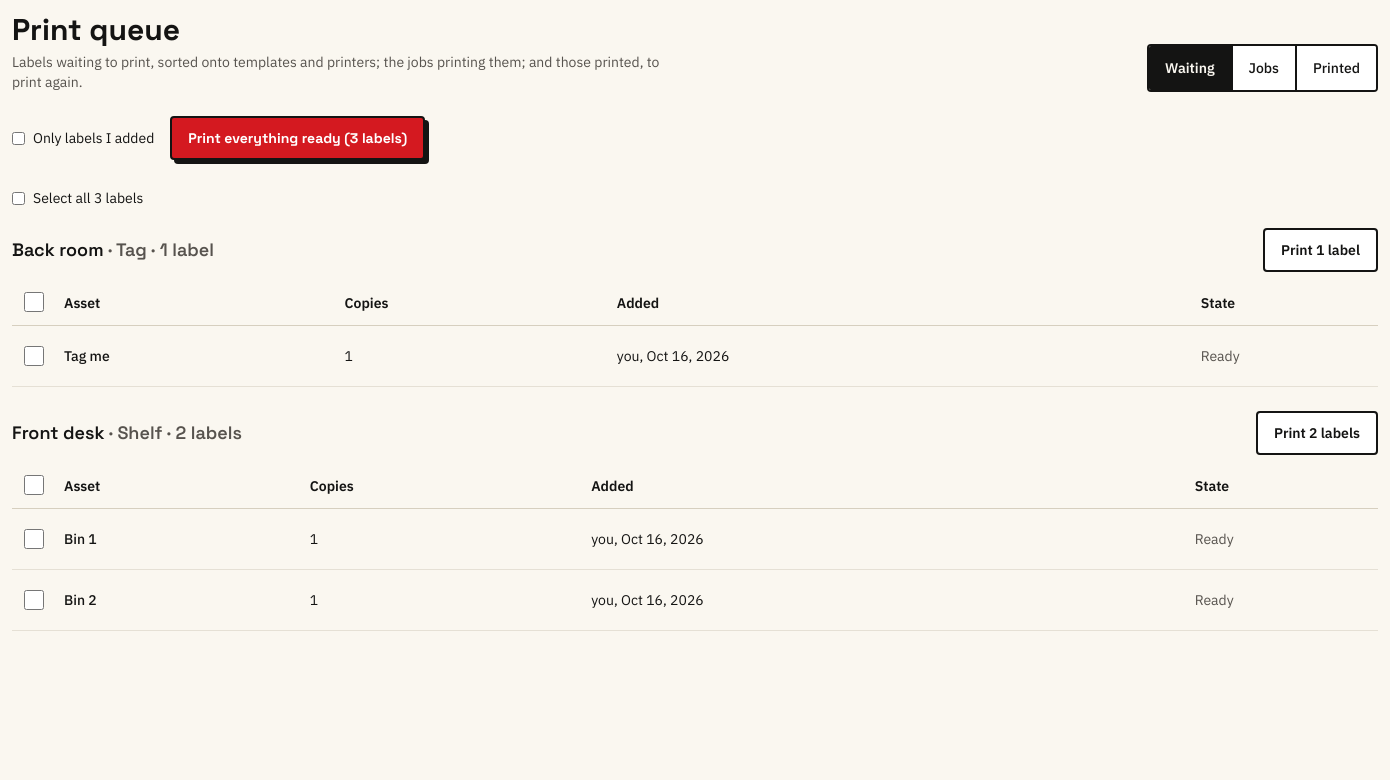
Scenario: SpoolPage › sets templates and printers in bulk, offering only what fits
The image size is (1390, 780).
Click the checkbox named "Select every label for Front desk, Shelf". click: [34, 485]
box: [24,475,44,495]
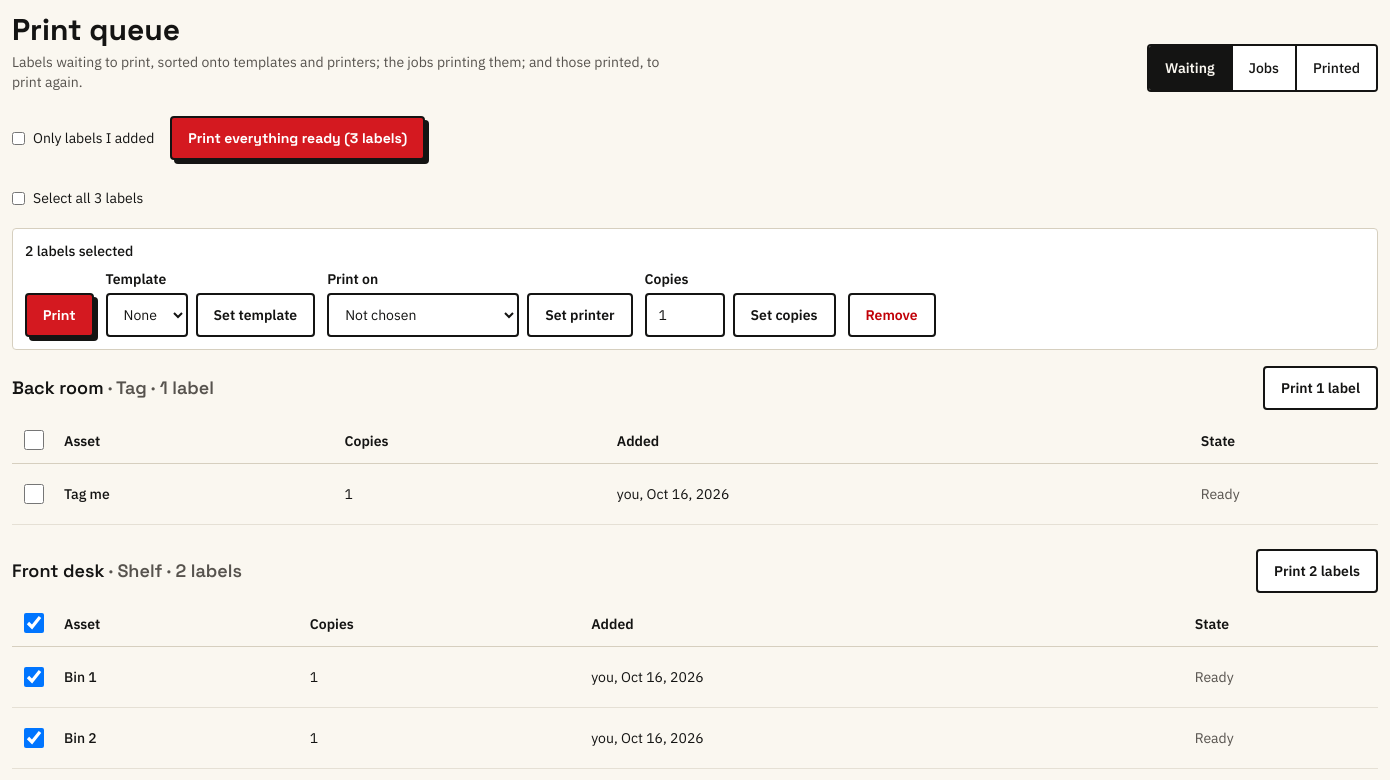
Result: the text "2 labels selected" is shown at [25,242,133,260]
Select "Download (PDF or ZIP)" in the dropdown labelled "Print on". click: [423, 315]
box: [327,293,519,337]
Submit the form from the button "Set printer", box [527,293,633,337]
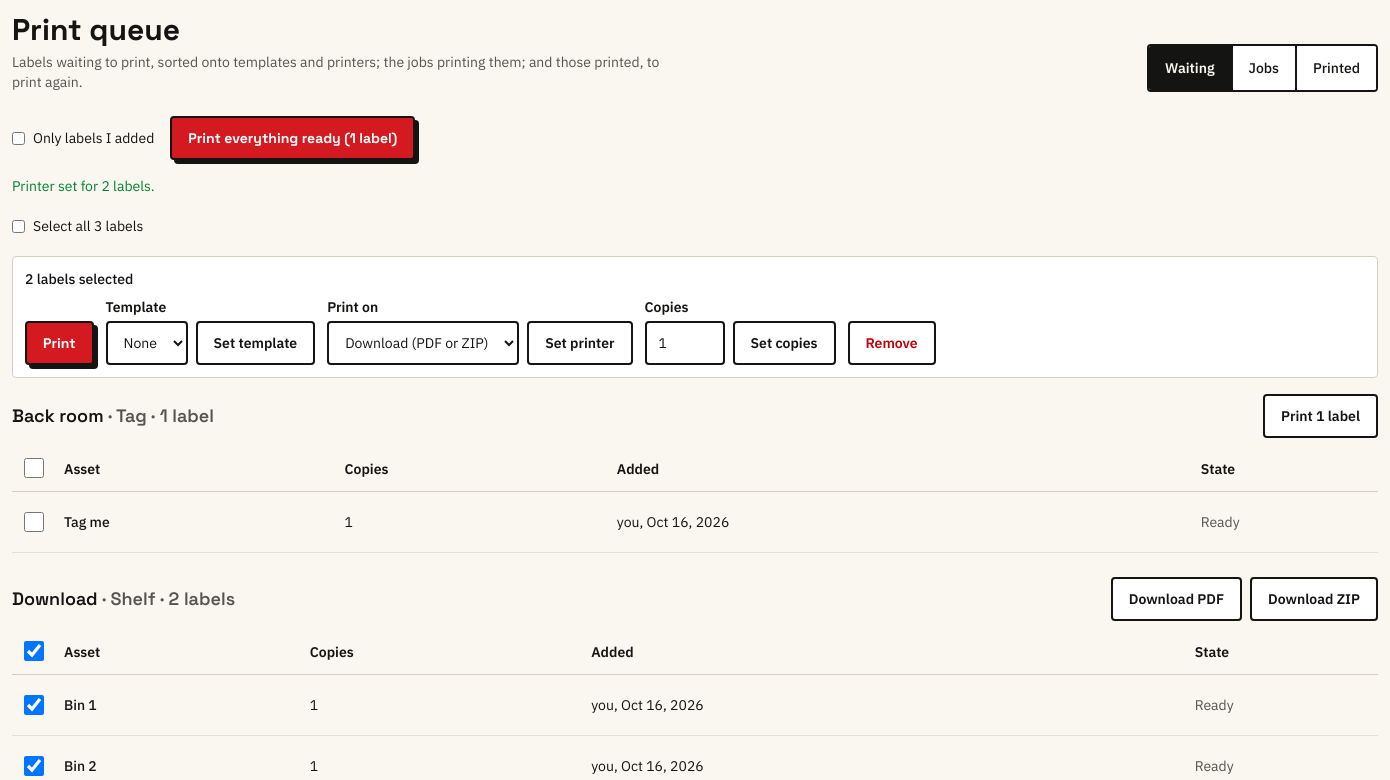
Result: the text "Printer set for 2 labels." is shown at [12,177,155,195]
Result: the heading "Download · Shelf · 2 labels" is shown at [12,585,235,613]
// Selecting the tag printer's label offers only the templates it takes.
Click the checkbox named "Select every label for Download, Shelf". click: [34, 651]
box: [24,641,44,661]
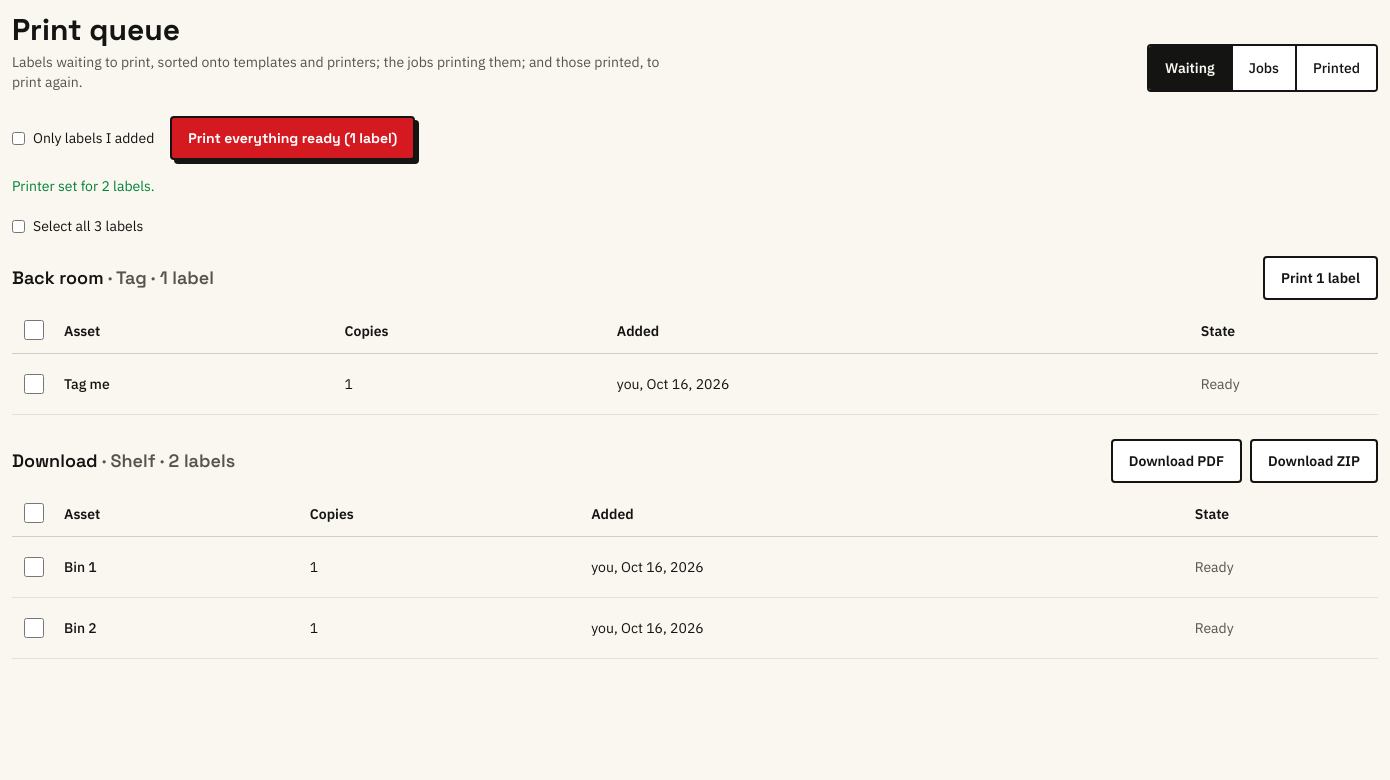
Click the checkbox named "Select Tag me". click: [34, 384]
box: [24,374,44,394]
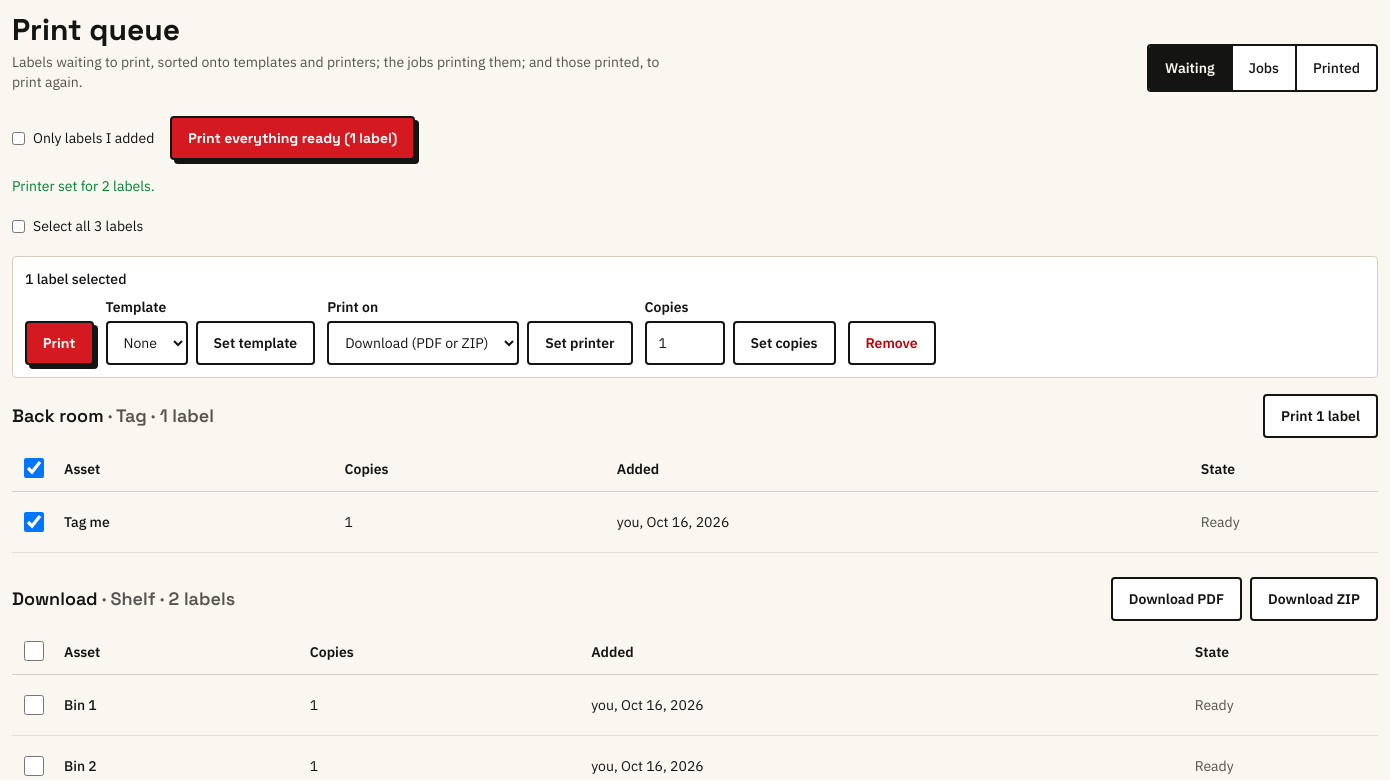
Click the button "Remove". click: [892, 343]
box: [848,321,936,365]
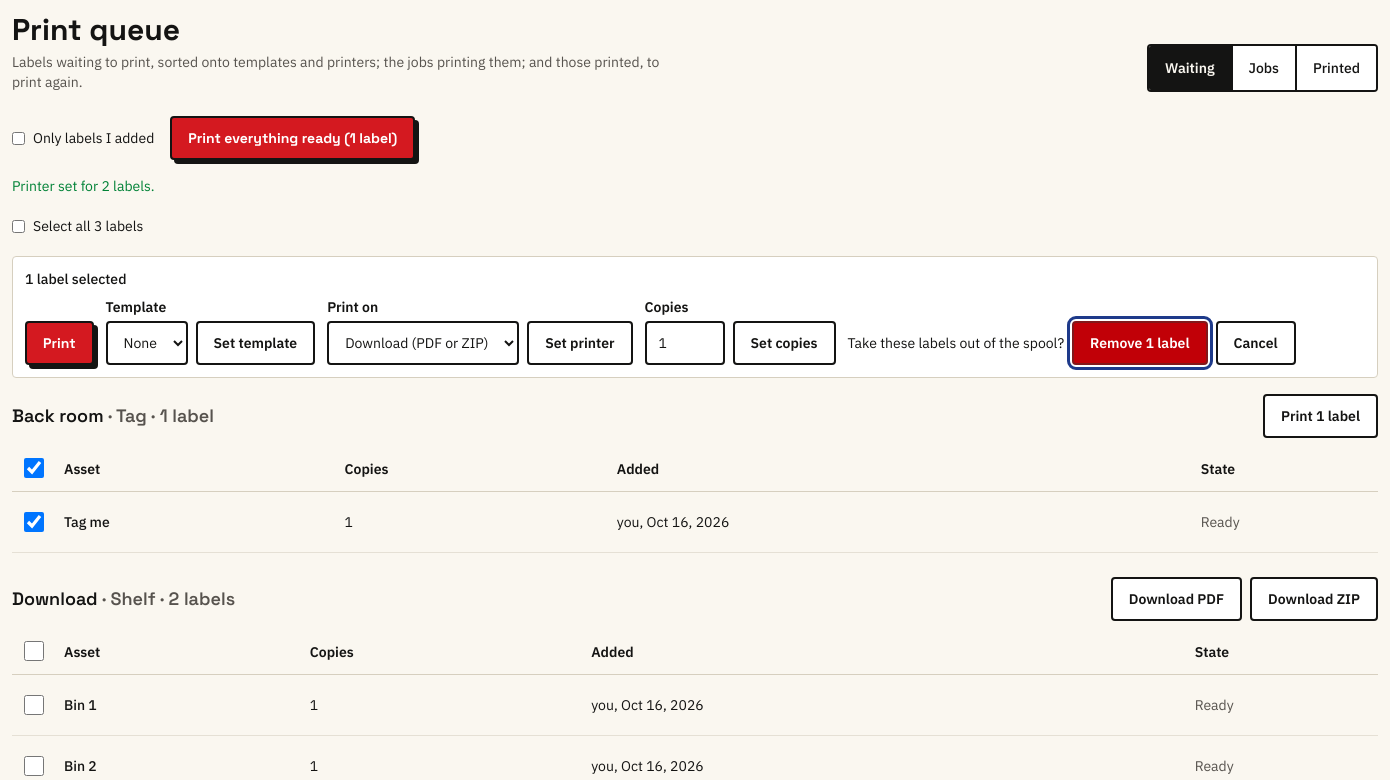
Click the button "Remove 1 label". click: [1140, 343]
box: [1072,321,1208,365]
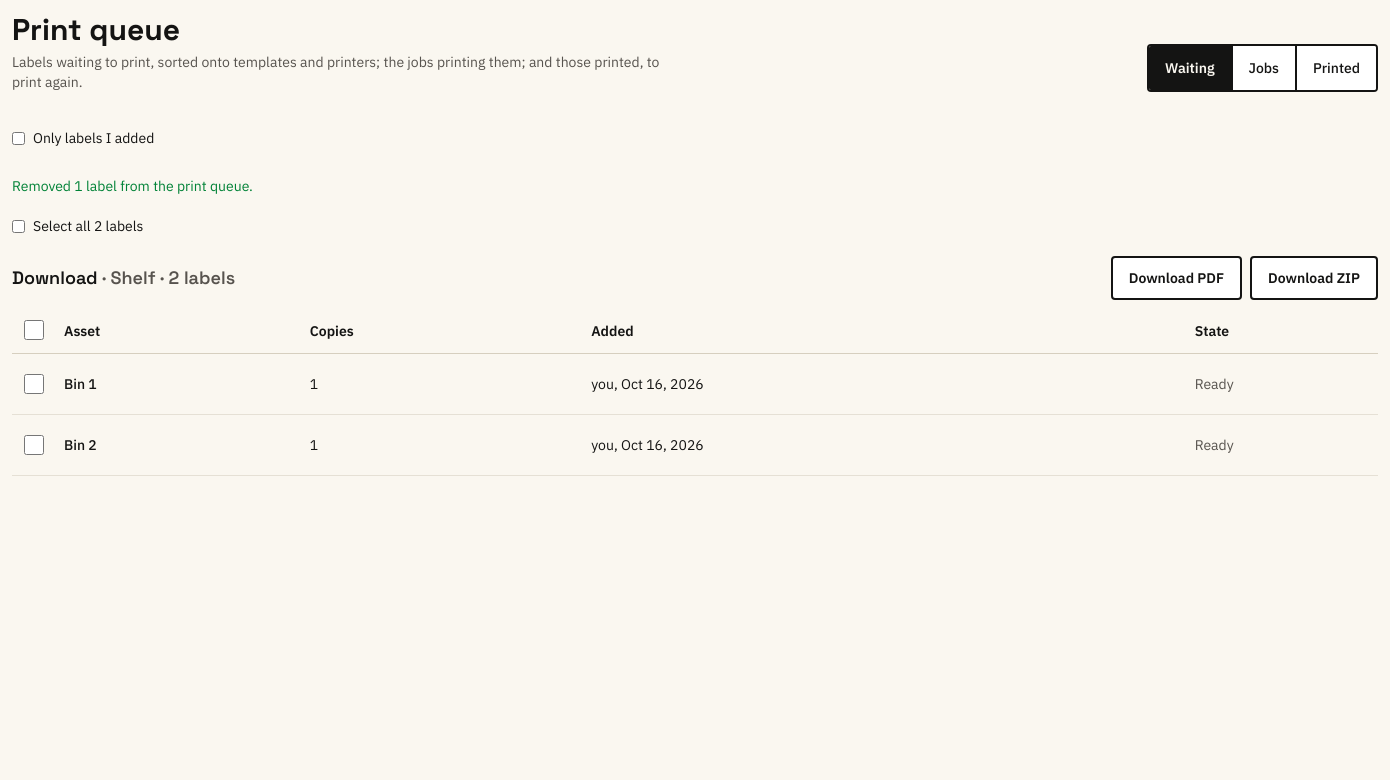
Result: the text "Removed 1 label from the print queue." is shown at [12,177,253,195]
Result: the link "Tag me" is gone
